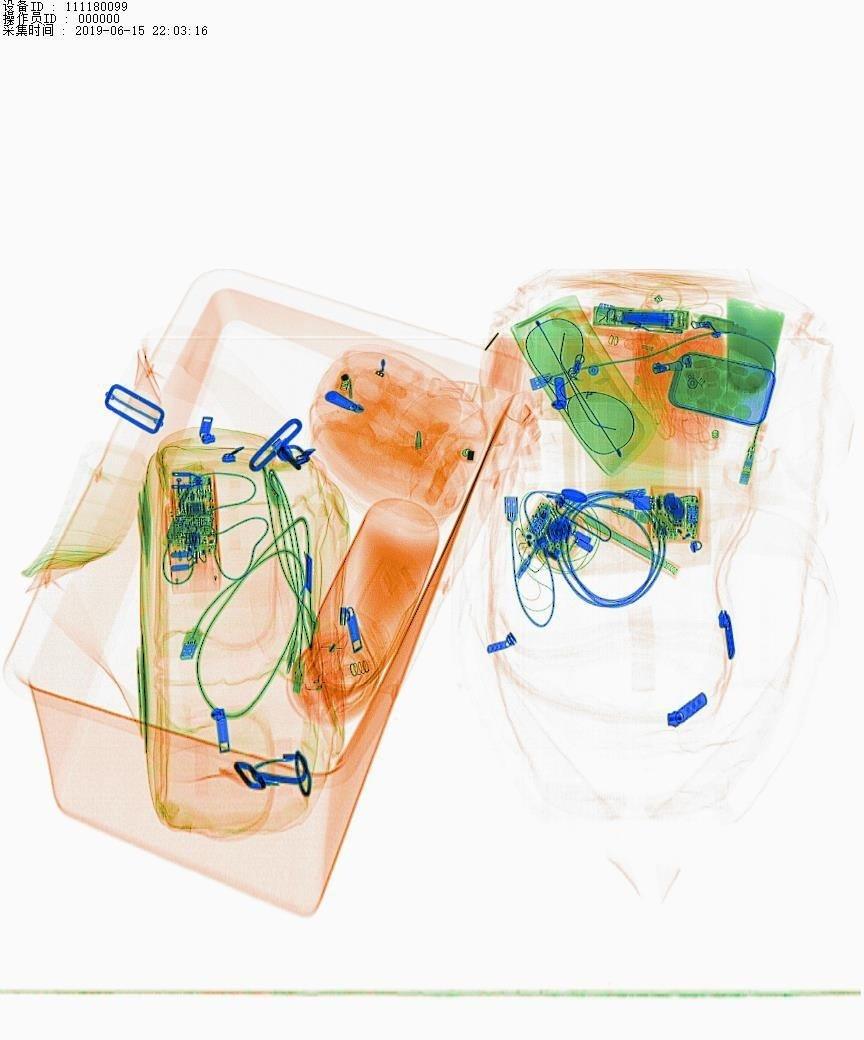NonmetallicFire: (590, 292, 700, 341)
